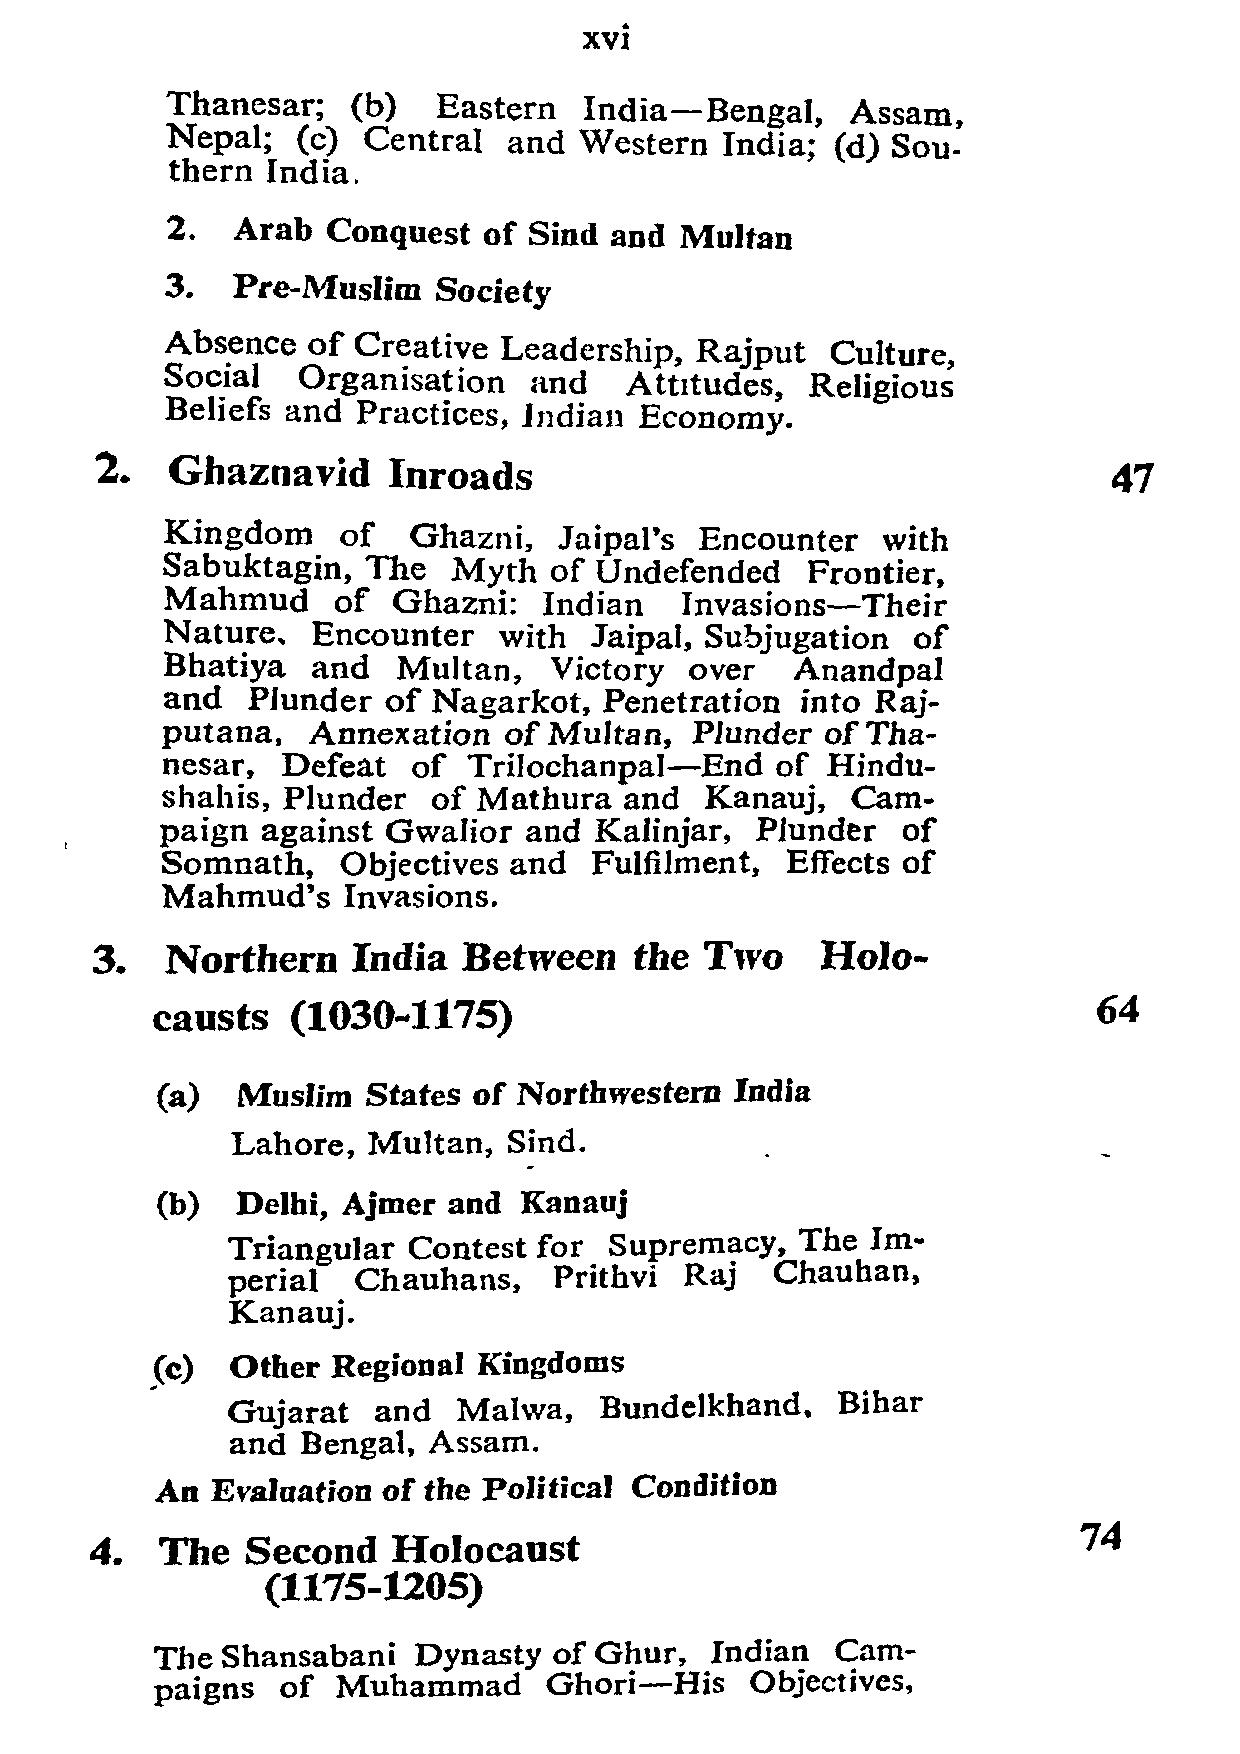TOC_chapter: (81, 935, 935, 1508), (89, 442, 955, 913), (156, 79, 969, 433), (82, 1527, 923, 1710)
TOC_pagenumber: (1070, 1507, 1125, 1566), (1104, 452, 1164, 502), (1088, 986, 1153, 1028)
